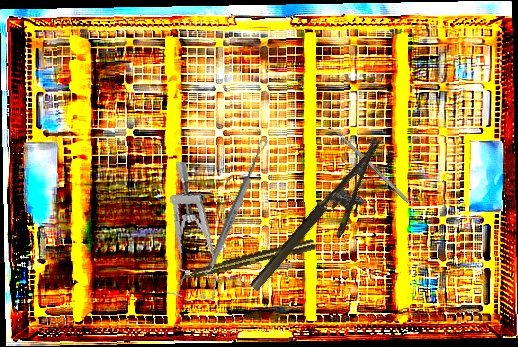Handpiece: (176, 237, 317, 285)
Needle Holder: (248, 137, 405, 309)
Pusher: (324, 120, 411, 204)
Speculum: (153, 161, 236, 302)
Surgical Spoon: (206, 137, 269, 270)
